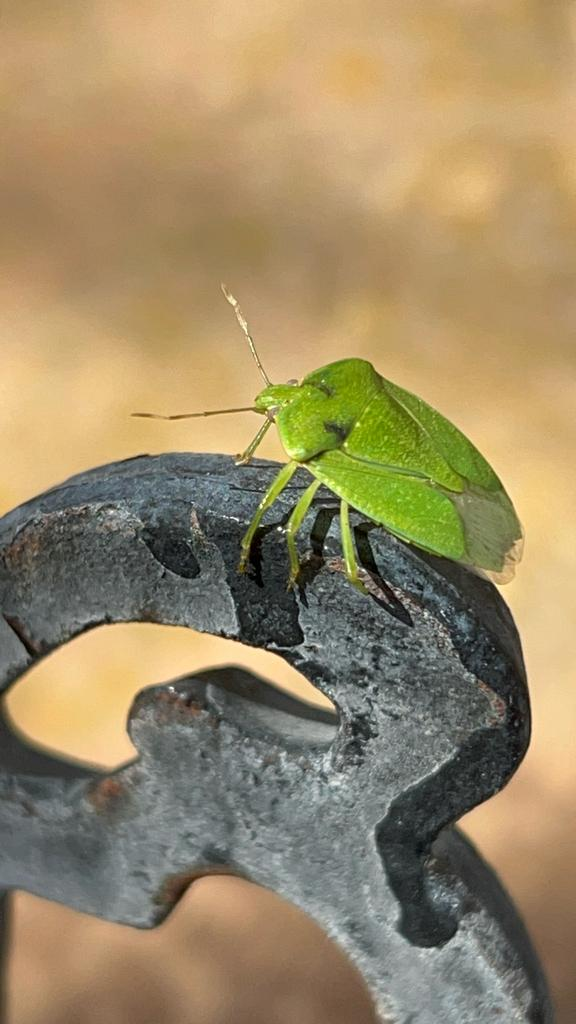stink_bugs: (48, 226, 576, 653)
